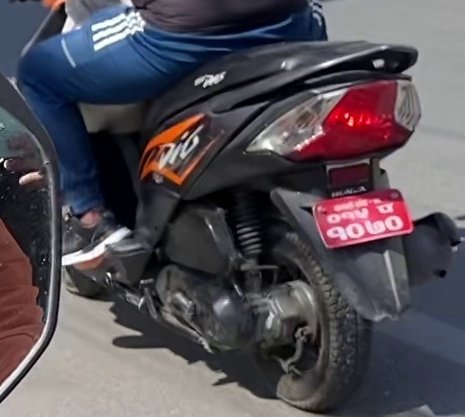license_plate: (314, 188, 412, 249)
